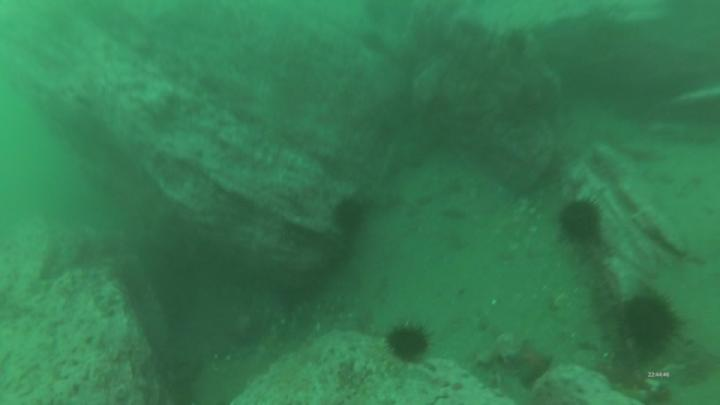echinus: (619, 292, 685, 357), (554, 196, 607, 248), (386, 319, 434, 361), (330, 196, 368, 235), (358, 29, 396, 61), (503, 27, 534, 55), (365, 1, 392, 19)
starfish: (502, 336, 558, 392)
